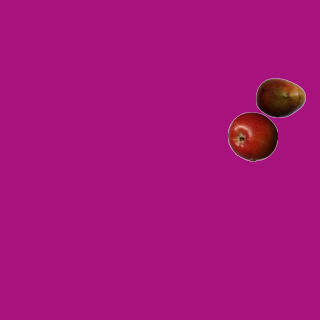Apple Braeburn: (227, 111, 277, 161)
Mango Red: (255, 72, 305, 122)
